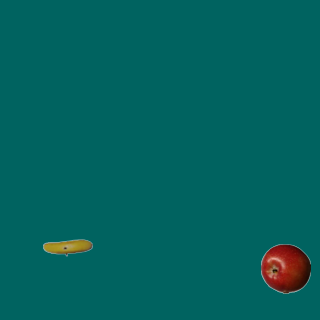Apple Braeburn: (260, 243, 310, 293)
Banana: (42, 222, 92, 272)
